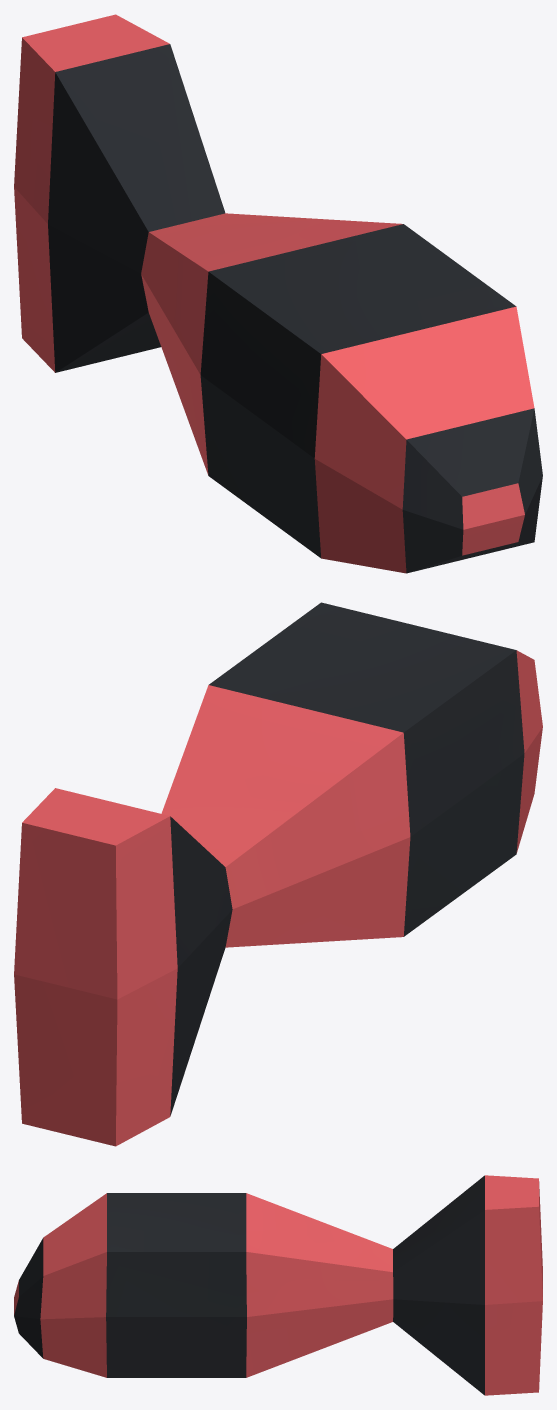
File: fish4.fbx
3 renders of one model, top to bottom at view 1: azimuth 30°, elevation 25°; view 2: azimuth 150°, elevation 25°; view 3: azimuth 270°, elevation 25°, orthographic. The views are drawn at different scales.
Parts seen in each view (by area): view 1: Cube; view 2: Cube; view 3: Cube.
Part boxes in pixels (x1,y1,x2,y2): Cube: (14, 14, 542, 573); Cube: (14, 602, 542, 1146); Cube: (14, 1175, 542, 1395).
Bounding box in the file's own units: 42.98 × 58.89 × 152.
Materials: 1 (1 with a texture image).
